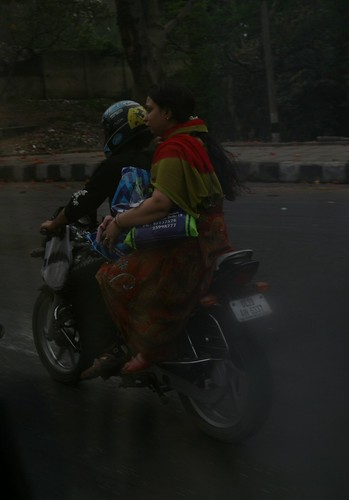helmet: (94, 95, 143, 148)
